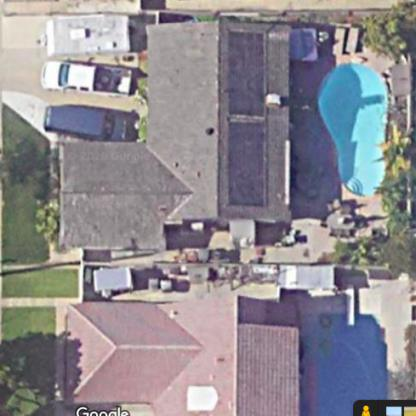car: (36, 52, 136, 102), (37, 94, 132, 142)
solar_panel: (219, 24, 282, 212)
swimming_pool: (310, 45, 403, 206), (301, 293, 392, 416)
